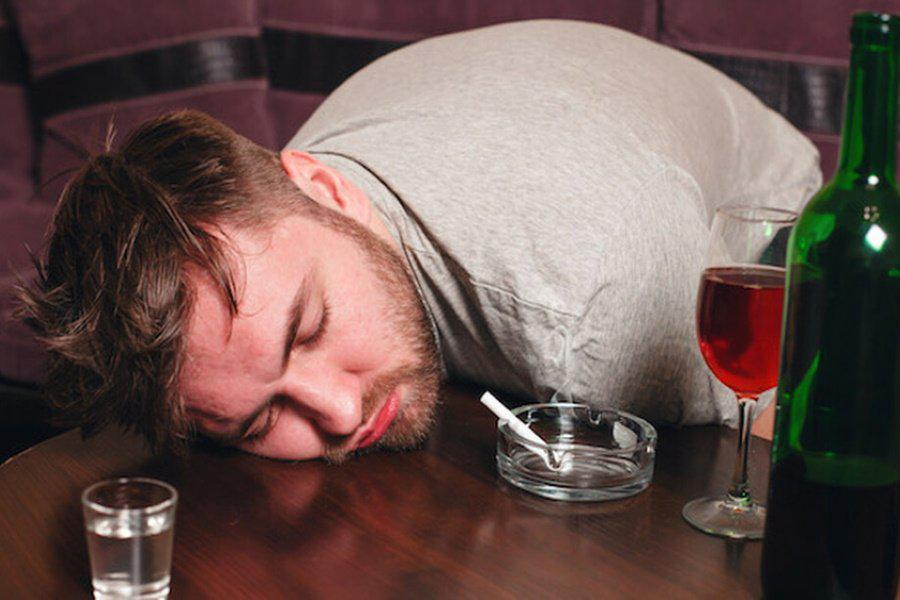Drunk: (168, 229, 431, 458)
